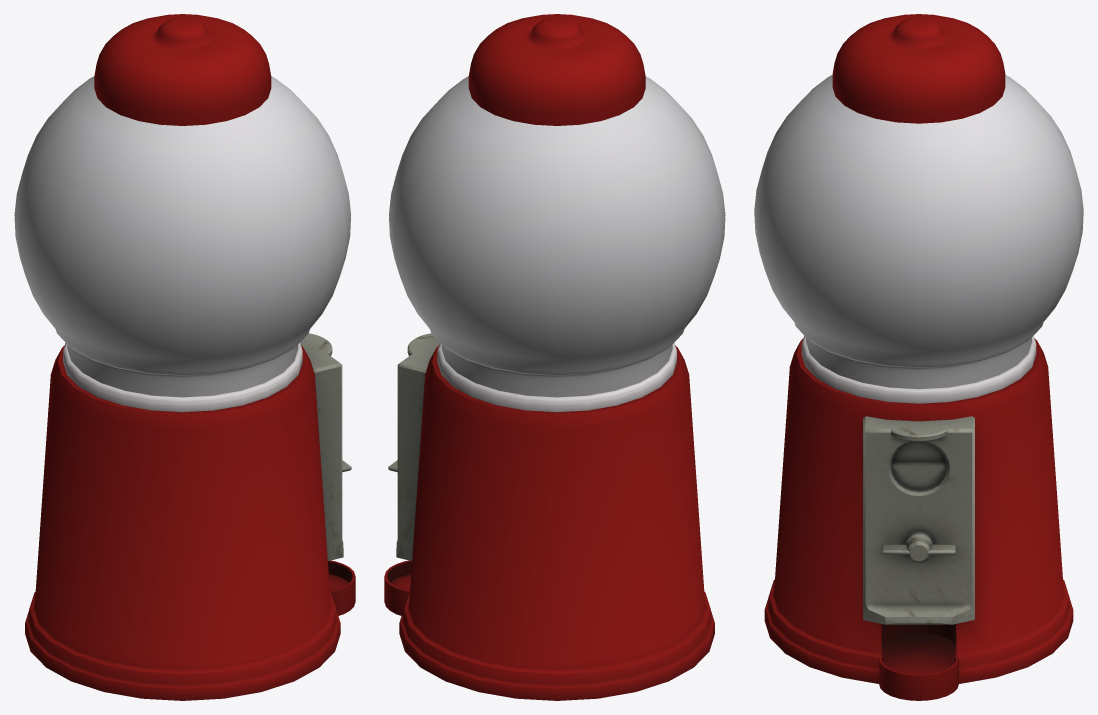
Rendered from video_store_gum_ball_machine.obj.
3 renders of one model, left to right at view 1: azimuth 30°, elevation 25°; view 2: azimuth 150°, elevation 25°; view 3: azimuth 270°, elevation 25°, orthographic. The views are drawn at different scales.
Visible parts, largest first — view 1: Mesh20_geodesic_sphere_foot14_Group1_Model; view 2: Mesh20_geodesic_sphere_foot14_Group1_Model; view 3: Mesh20_geodesic_sphere_foot14_Group1_Model.
Part boxes in pixels (left/top/right/bottom): Mesh20_geodesic_sphere_foot14_Group1_Model: left=14, top=14, right=355, bottom=700; Mesh20_geodesic_sphere_foot14_Group1_Model: left=384, top=14, right=725, bottom=700; Mesh20_geodesic_sphere_foot14_Group1_Model: left=754, top=14, right=1083, bottom=700.
Size of the model in its own units: 0.2522 by 0.47 by 0.2349.
2 materials, 2 textured.
